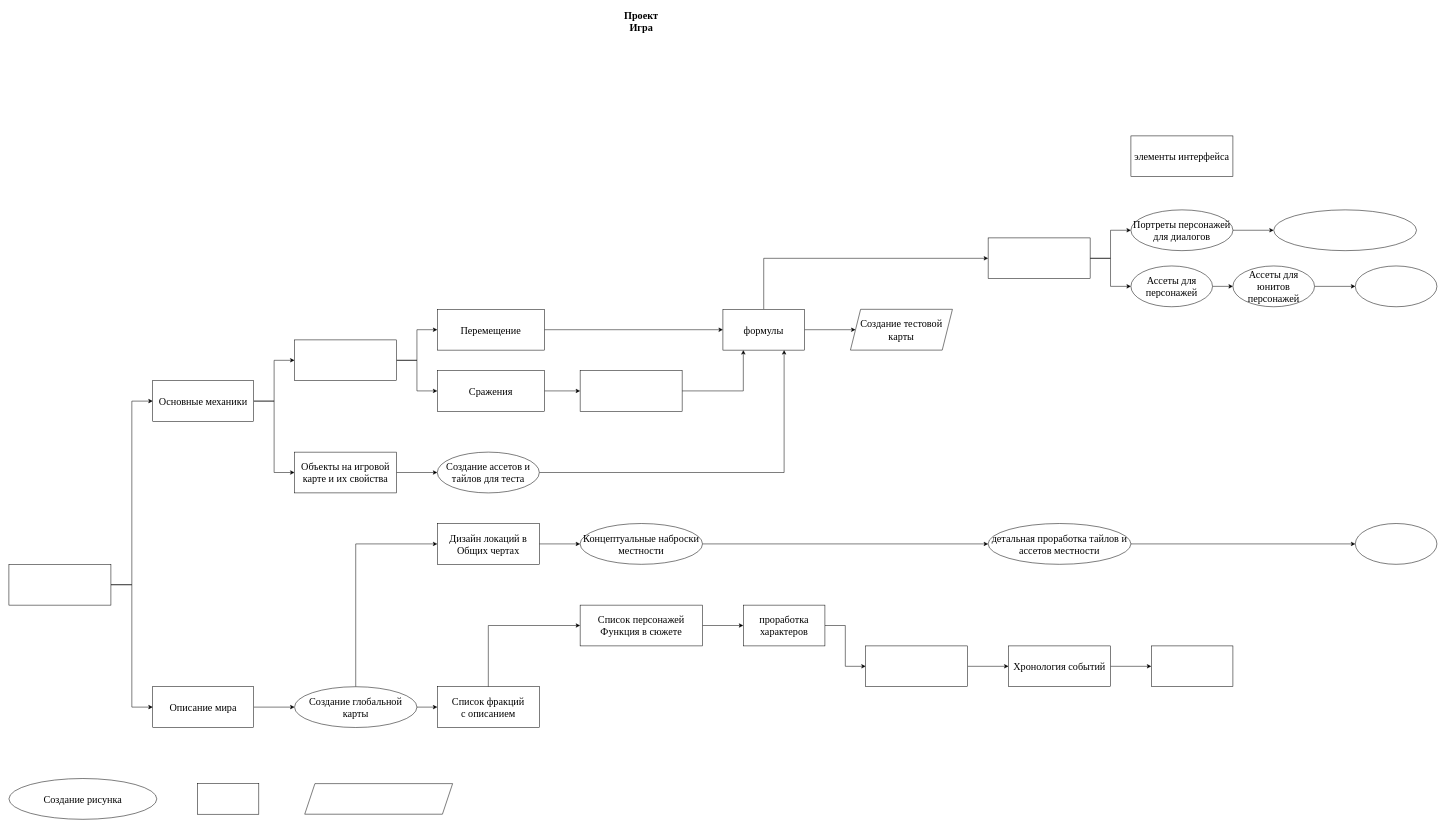
The diagram is 1446 pixels wide and 828 high, and some of its shapes have lost their labels. The box of each missing label's shape, as (x1, y1, x2, y2) in pixels:
Анимации объектов местности: (1355, 523, 1437, 564)
Анимации персонажей: (1355, 265, 1437, 307)
Концептуализация идеи: (8, 564, 111, 605)
Механический дизайн игровых персонаже: (988, 237, 1090, 279)
Перересовка портретов под разные эммоцци: (1273, 209, 1417, 251)
программирование: (304, 783, 453, 814)
Создание диаграммы взаимотношений: (865, 645, 968, 687)
Создание сюжетных компаний: (1151, 645, 1233, 687)
Текстовое описание: (197, 783, 259, 814)
Характеристики: (580, 370, 682, 411)
Юниты и их возможности: (294, 339, 397, 381)
